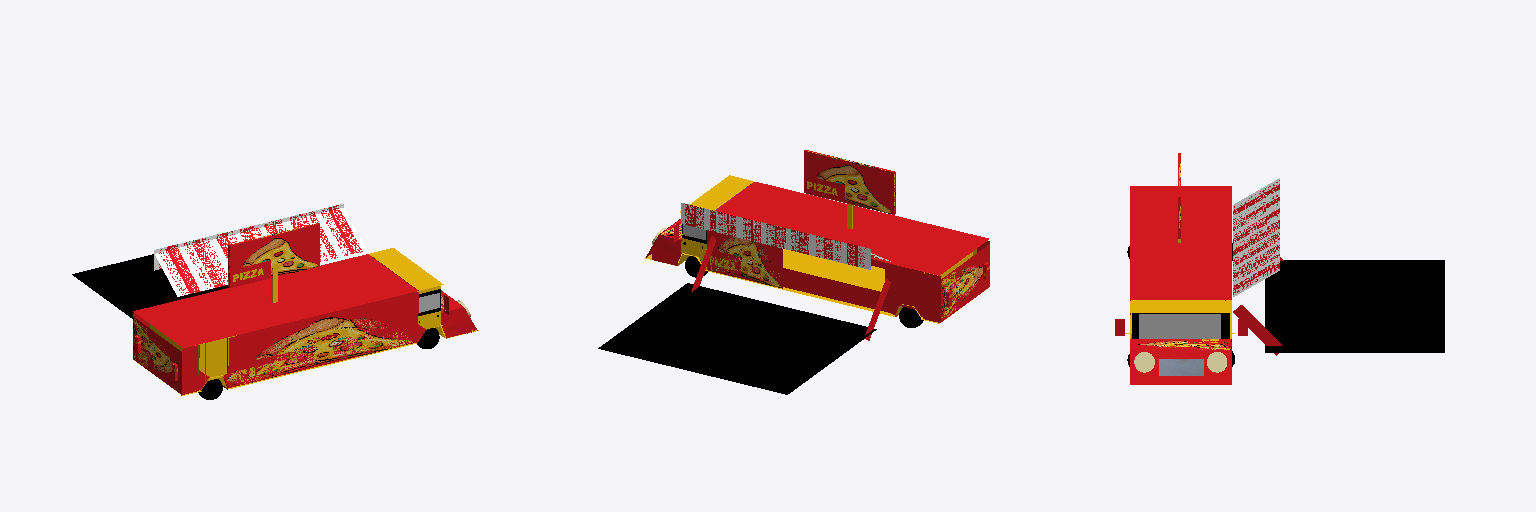
The picture shows the model from 3 angles: view 1: azimuth 30°, elevation 25°; view 2: azimuth 150°, elevation 25°; view 3: azimuth 270°, elevation 25°; orthographic projection.
Visible parts, largest first — view 1: Box010, Box015, Box057, Box059, Box058, Box049, Box046, Box028, Box042, Box027, Box012, Box048; view 2: Box058, Box015, Box059, Box012, Box054, Box001, Box049, Box046, Box011, Box041, Box028, Box026 (+1 smaller); view 3: Box058, Box015, Box057, Box021, Box049, Box025, Box028, Box024, Box050, Box014.
Boxes of the visible parts, x1,y1,x2,y2 form: Box010: [228, 292, 418, 387]; Box015: [178, 254, 417, 336]; Box057: [155, 208, 366, 296]; Box059: [228, 223, 319, 287]; Box058: [72, 254, 228, 318]; Box049: [133, 300, 227, 347]; Box046: [133, 317, 181, 394]; Box028: [369, 248, 443, 290]; Box042: [195, 335, 236, 380]; Box027: [417, 286, 440, 328]; Box012: [154, 204, 343, 270]; Box048: [181, 345, 199, 395]; Box058: [598, 283, 876, 394]; Box015: [715, 182, 943, 264]; Box059: [804, 150, 895, 214]; Box012: [681, 203, 870, 269]; Box054: [707, 230, 782, 288]; Box001: [705, 249, 894, 316]; Box049: [894, 228, 988, 275]; Box046: [941, 244, 989, 321]; Box011: [783, 268, 889, 312]; Box041: [885, 263, 928, 312]; Box028: [680, 175, 753, 212]; Box026: [681, 224, 706, 257]; Box058: [1265, 260, 1444, 352]; Box015: [1130, 208, 1231, 299]; Box057: [1233, 178, 1279, 296]; Box021: [1132, 313, 1229, 338]; Box049: [1130, 186, 1231, 207]; Box025: [1130, 350, 1231, 384]; Box028: [1130, 301, 1231, 312]; Box024: [1130, 339, 1231, 349]; Box050: [1159, 359, 1203, 375]; Box014: [1233, 305, 1282, 355].
Bounding box in the file's own units: 90.03 × 37.5 × 85.08.
12 materials, 10 textured.